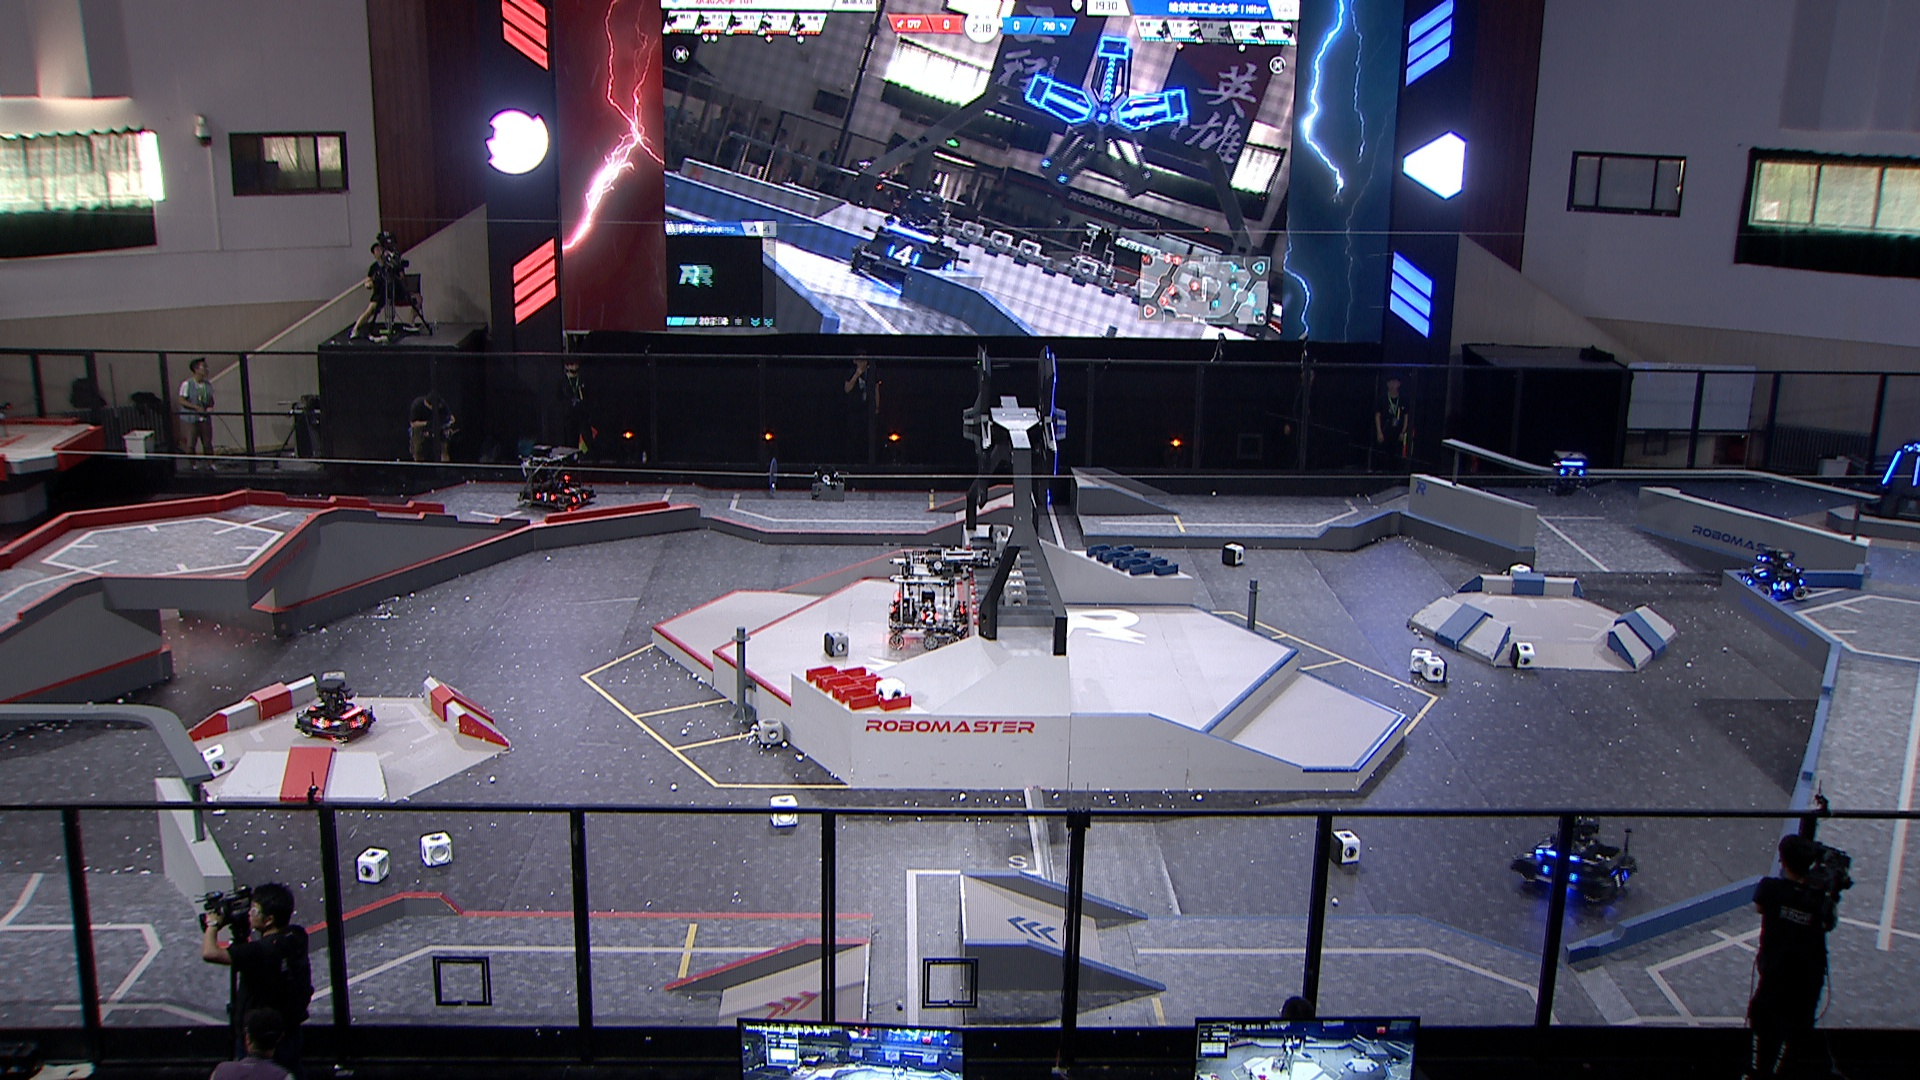armor: (1883, 448, 1902, 488), (1607, 869, 1631, 891), (1557, 467, 1585, 479), (1771, 579, 1793, 593), (533, 491, 556, 504), (311, 716, 332, 731), (1534, 841, 1556, 855), (349, 713, 368, 728), (1912, 455, 1920, 488), (570, 493, 589, 505), (920, 612, 940, 624), (1753, 564, 1768, 579), (1741, 572, 1754, 588), (560, 487, 582, 495), (1908, 444, 1920, 455)
base: (1858, 444, 1920, 526)
car: (1515, 814, 1638, 907), (884, 543, 975, 650), (291, 676, 380, 746), (514, 443, 597, 514), (1741, 543, 1808, 604)
ignore: (852, 186, 959, 290), (1068, 249, 1116, 284)
watcher: (1549, 450, 1589, 498)
